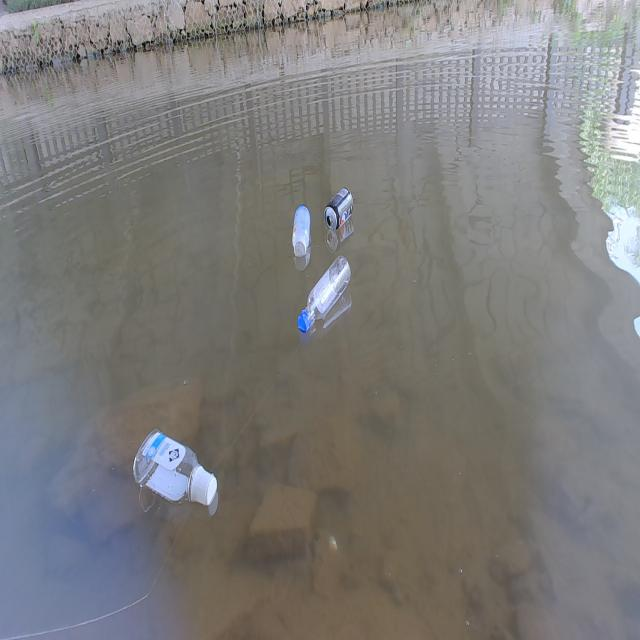Bottle: (131, 426, 218, 506), (294, 256, 351, 332), (289, 197, 311, 259)
Can: (322, 186, 354, 231)
